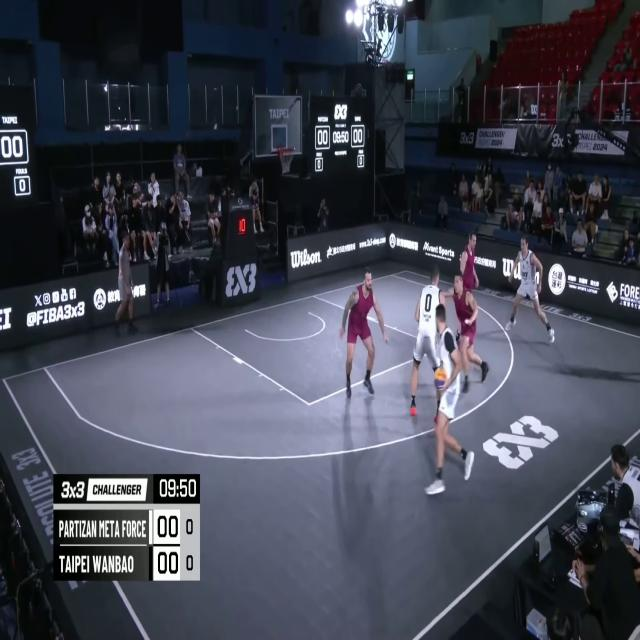ball: (432, 363, 448, 392)
hoop: (278, 142, 296, 176)
player: (427, 306, 473, 493), (342, 270, 388, 402), (409, 265, 448, 420), (506, 230, 556, 344), (449, 270, 489, 396), (455, 235, 479, 319)
